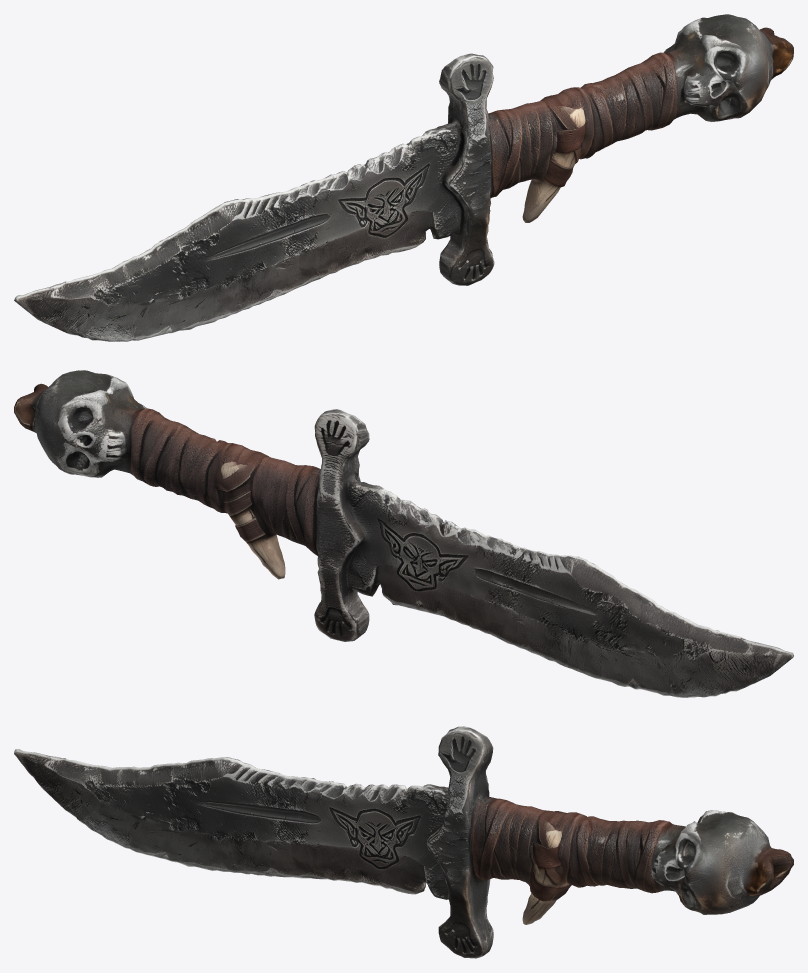
Rendered from Meshy_AI_Skullbound_Serrated_D_0702060252_texture.fbx.
The picture shows the model from 3 angles, top to bottom: view 1: azimuth 30°, elevation 25°; view 2: azimuth 150°, elevation 25°; view 3: azimuth 330°, elevation 25°; orthographic projection.
Parts seen in each view (by area): view 1: Mesh_0; view 2: Mesh_0; view 3: Mesh_0.
Boxes of the visible parts, x1,y1,x2,y2 form: Mesh_0: (14, 14, 793, 341); Mesh_0: (14, 370, 793, 697); Mesh_0: (14, 726, 793, 958).
Size of the model in its own units: 191 by 54.4 by 21.53.
1 material, 1 textured.
